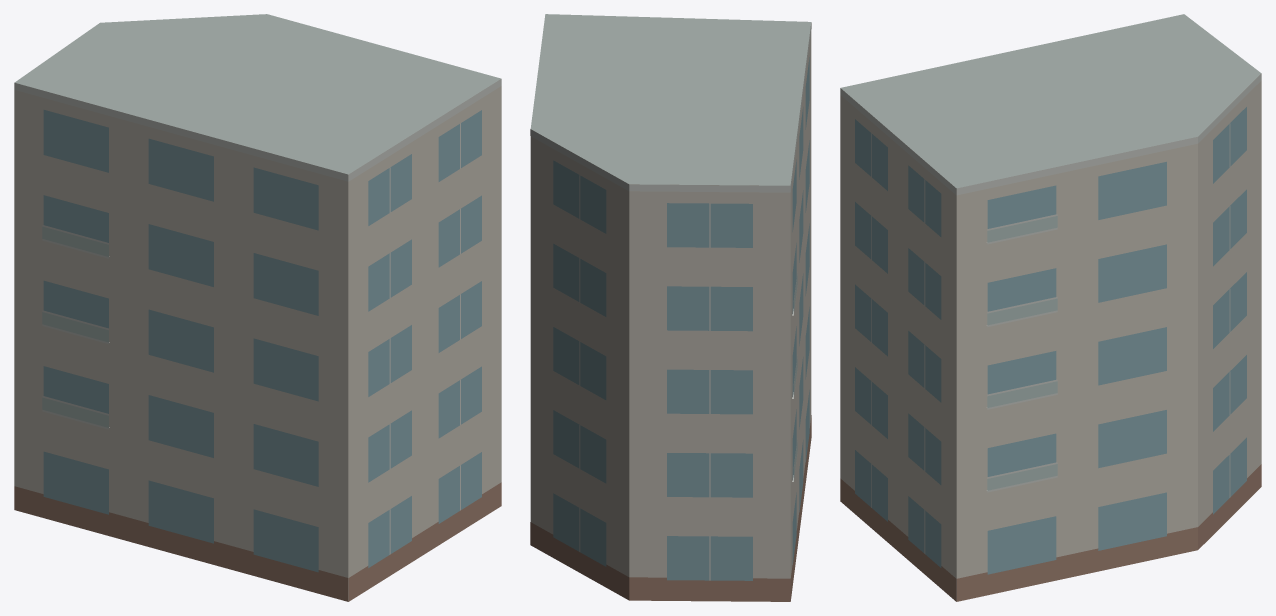
The model's file is survey-upis-32835230.glb.
3 renders of one model, left to right at view 1: azimuth 30°, elevation 25°; view 2: azimuth 150°, elevation 25°; view 3: azimuth 270°, elevation 25°, orthographic. The views are drawn at different scales.
Parts seen in each view (by area): view 1: survey-upis-32835230.tmp; view 2: survey-upis-32835230.tmp; view 3: survey-upis-32835230.tmp.
Part boxes in pixels (box(x1,y1,x2,y2)): survey-upis-32835230.tmp: box(14, 14, 501, 601); survey-upis-32835230.tmp: box(530, 14, 811, 601); survey-upis-32835230.tmp: box(840, 14, 1261, 601).
Size of the model in its own units: 13.08 by 14.44 by 13.34.
